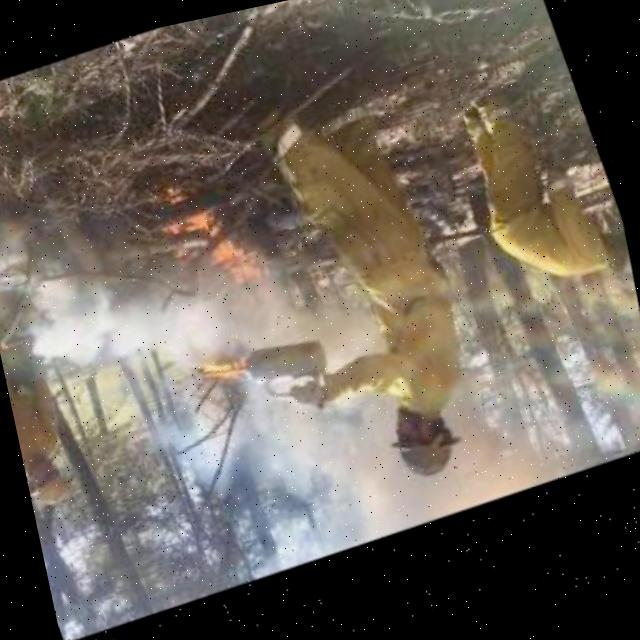fire: (138, 165, 293, 332), (201, 356, 251, 399)
